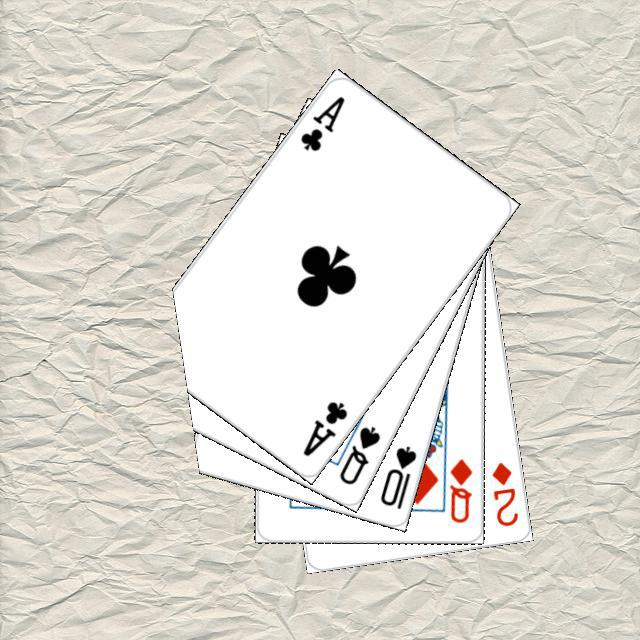10s: (375, 441, 418, 511)
2d: (486, 457, 520, 528)
Ac: (297, 396, 350, 459), (295, 91, 347, 154)
Qd: (444, 454, 473, 524)
Qs: (334, 421, 382, 487)
